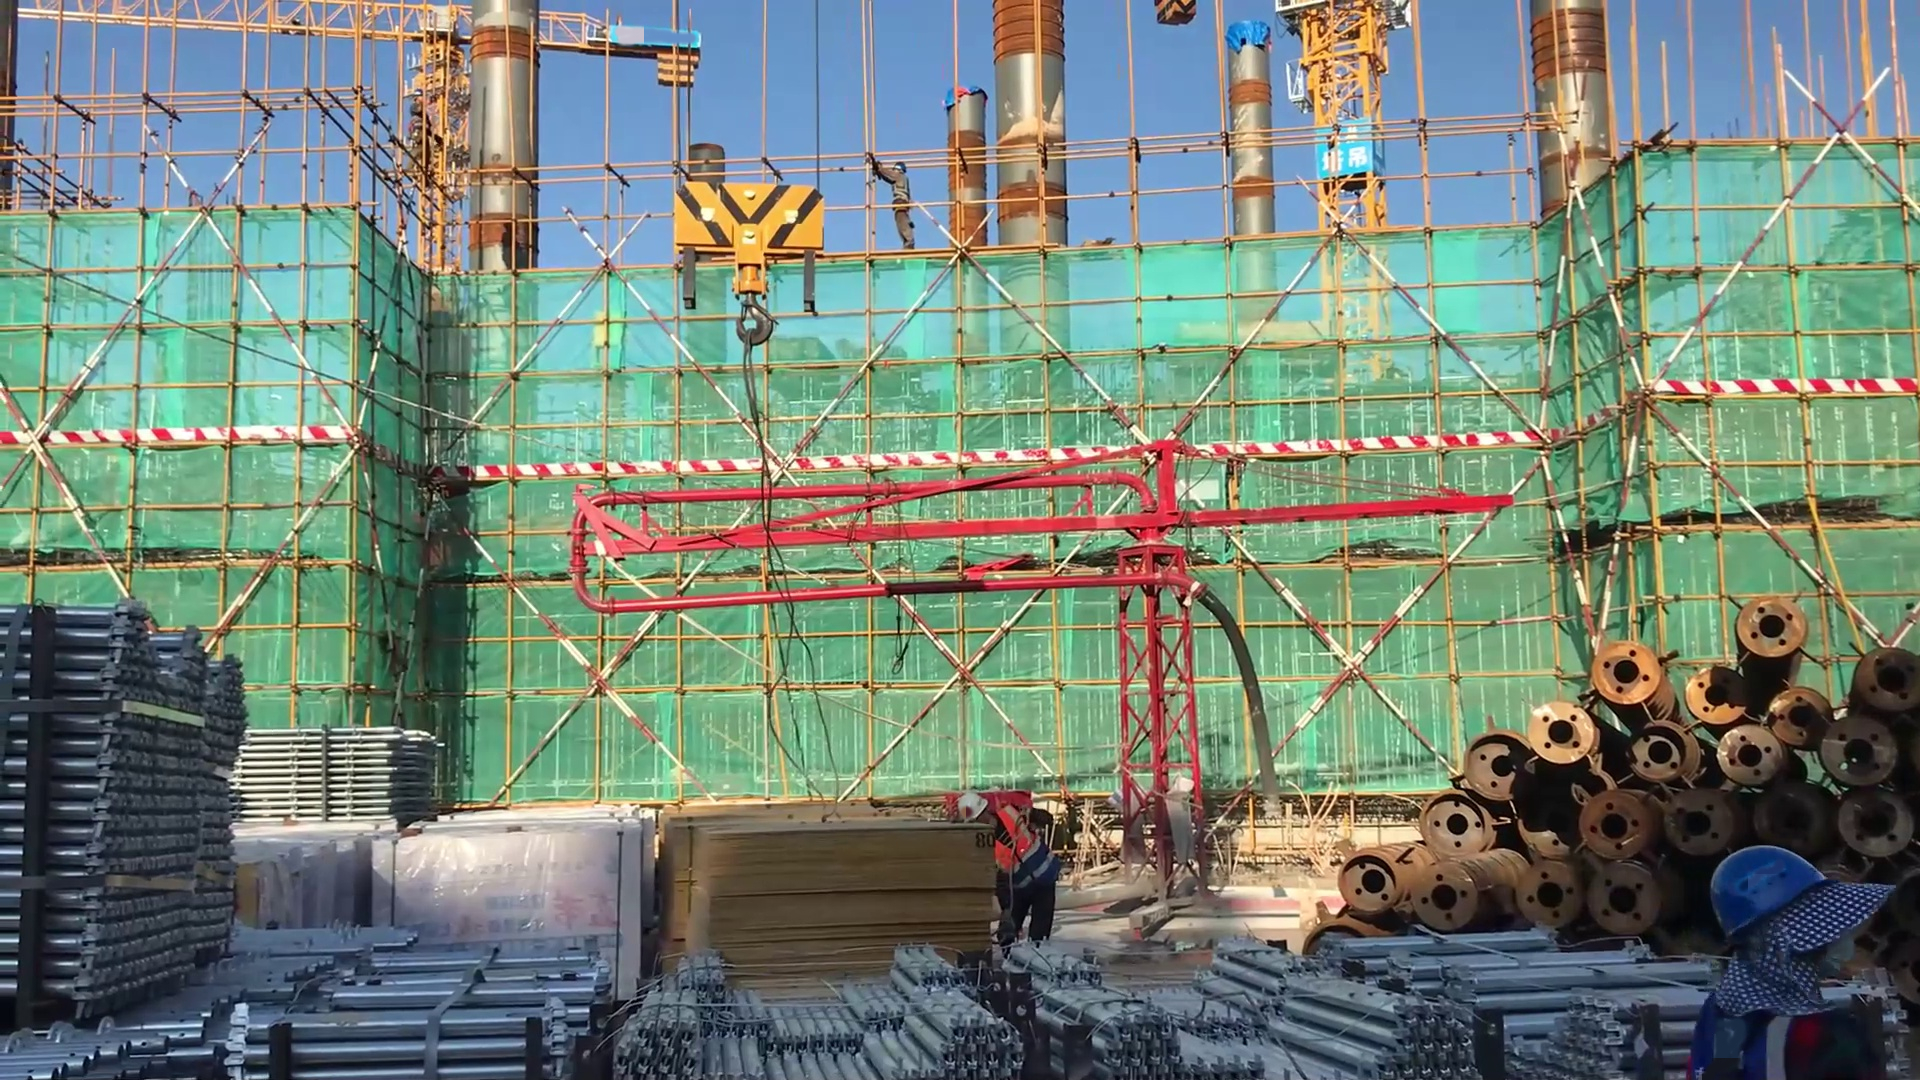board: (654, 809, 992, 970)
helmet: (1700, 847, 1848, 943), (956, 787, 993, 827), (894, 157, 909, 175)
hook: (672, 156, 831, 391)
person: (1674, 837, 1920, 1077), (956, 779, 1077, 961), (858, 143, 921, 261)
scaffold: (2, 594, 244, 1027), (1416, 932, 1920, 1074), (5, 914, 391, 1080), (1040, 948, 1465, 1080), (619, 952, 1042, 1080), (287, 949, 618, 1069), (247, 721, 451, 823)
slogan: (1320, 116, 1373, 194)
vest: (1678, 971, 1875, 1076), (978, 806, 1069, 898), (888, 177, 918, 208)
